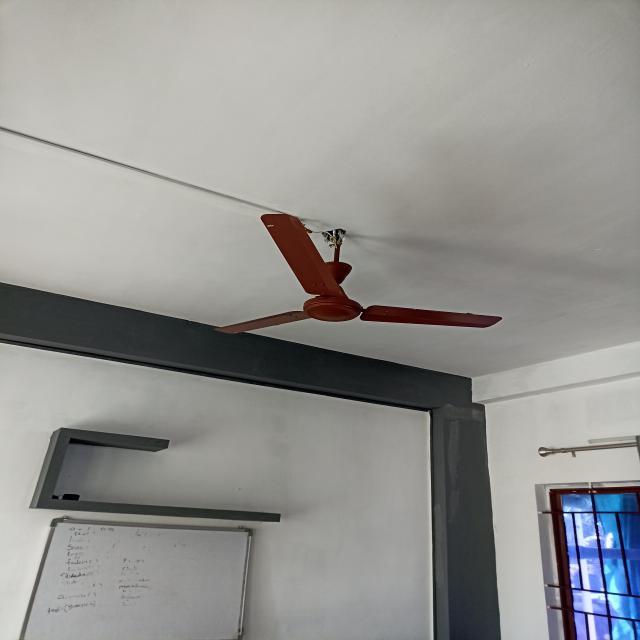fan: (212, 212, 502, 334)
